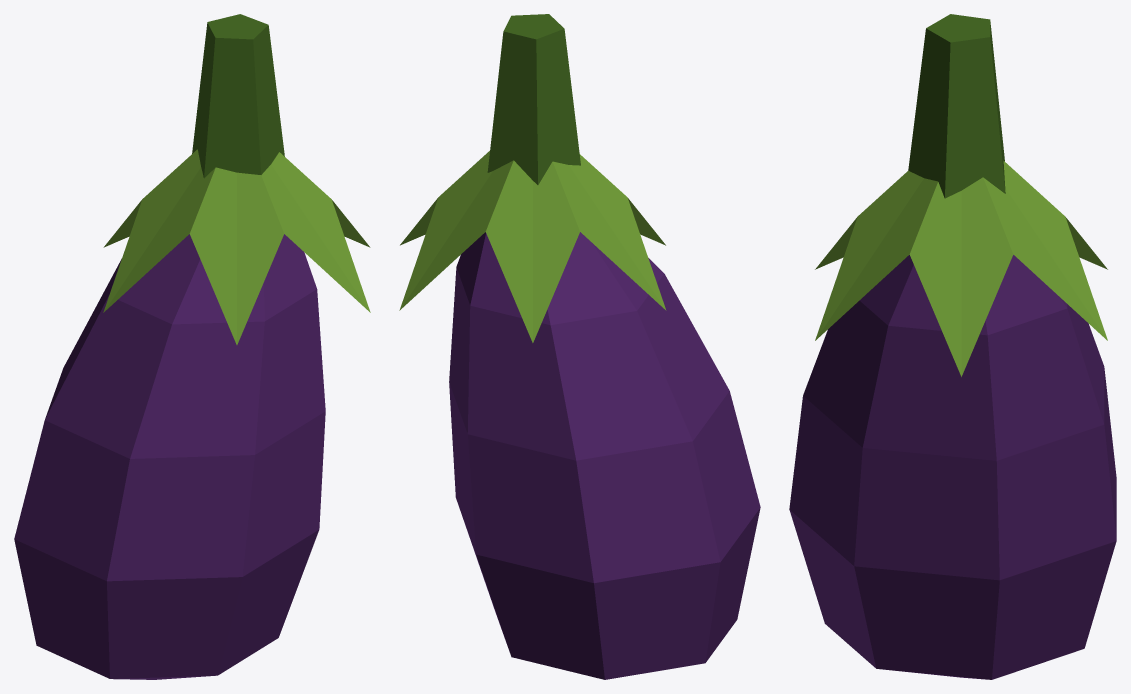
File: eggplant-0a3892.glb
3 renders of one model, left to right at view 1: azimuth 30°, elevation 25°; view 2: azimuth 150°, elevation 25°; view 3: azimuth 270°, elevation 25°, orthographic. The views are drawn at different scales.
Parts seen in each view (by area): view 1: eggplant; view 2: eggplant; view 3: eggplant.
Part boxes in pixels (box(x1,y1,x2,y2)): eggplant: box(14, 14, 370, 679); eggplant: box(399, 14, 760, 679); eggplant: box(789, 14, 1116, 679).
Bounding box in the file's own units: 0.1572 × 0.28 × 0.1198.
